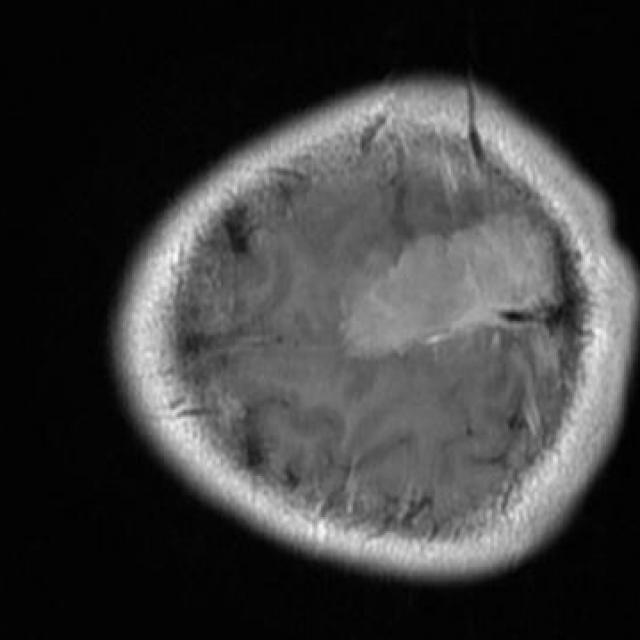meningioma: (344, 217, 554, 349)
